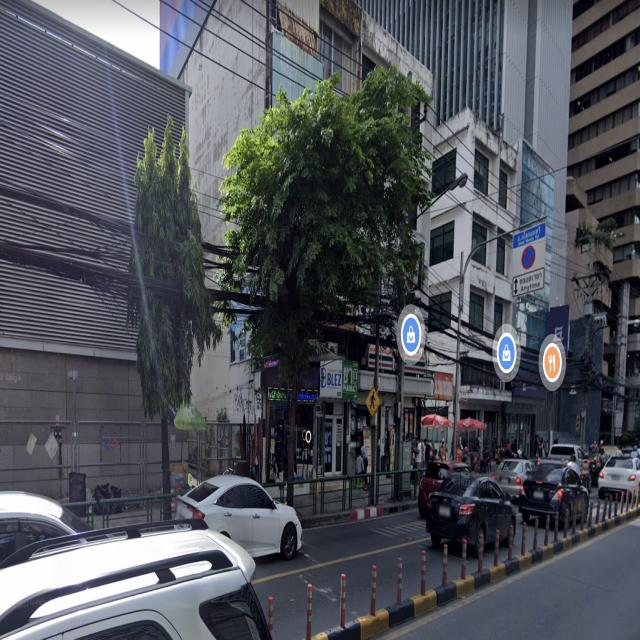tree: (225, 64, 429, 544), (126, 108, 214, 542)
